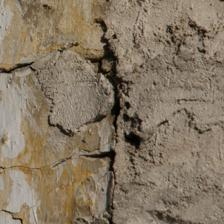Crack: (92, 18, 135, 222), (48, 145, 117, 173), (2, 62, 41, 78)
